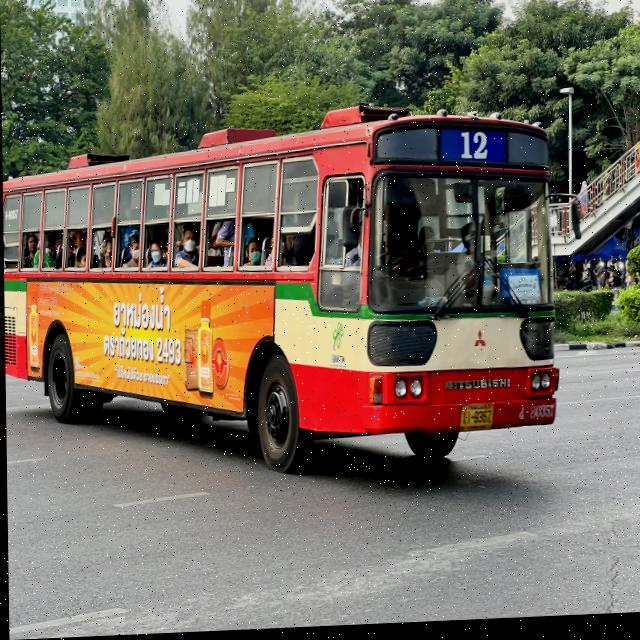BMTA-bus: (1, 105, 561, 487)
Bus-Line-Number: (451, 127, 497, 177)
Destination-Sign-Normal: (496, 263, 545, 305)
